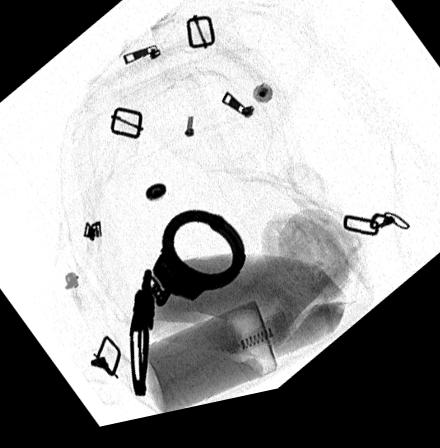HandCuffs: (128, 218, 246, 402)
